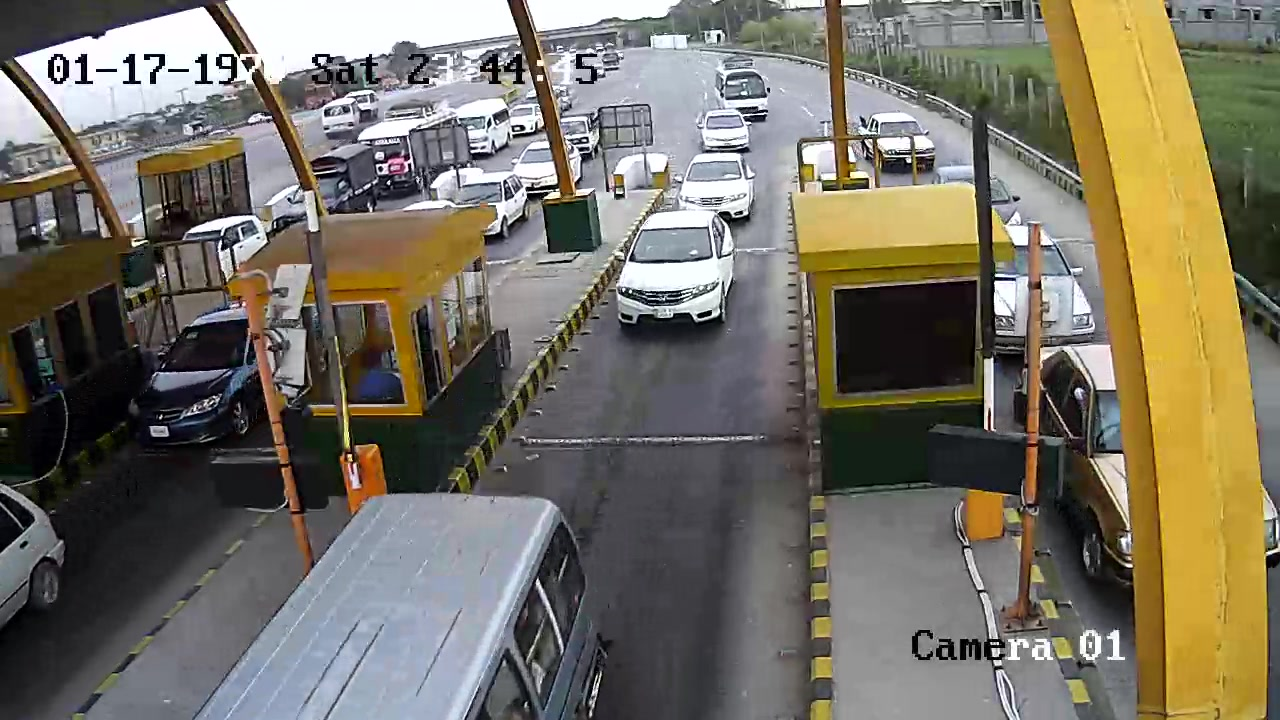F1: (597, 212, 744, 345)
